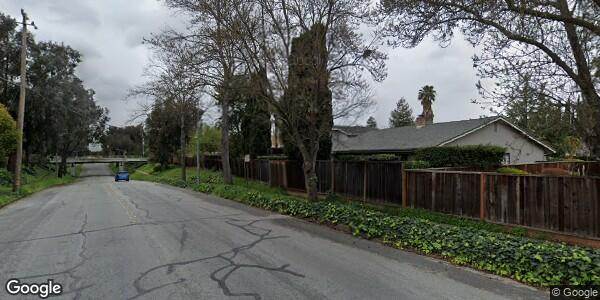Wood_Pole: (11, 7, 41, 194)
